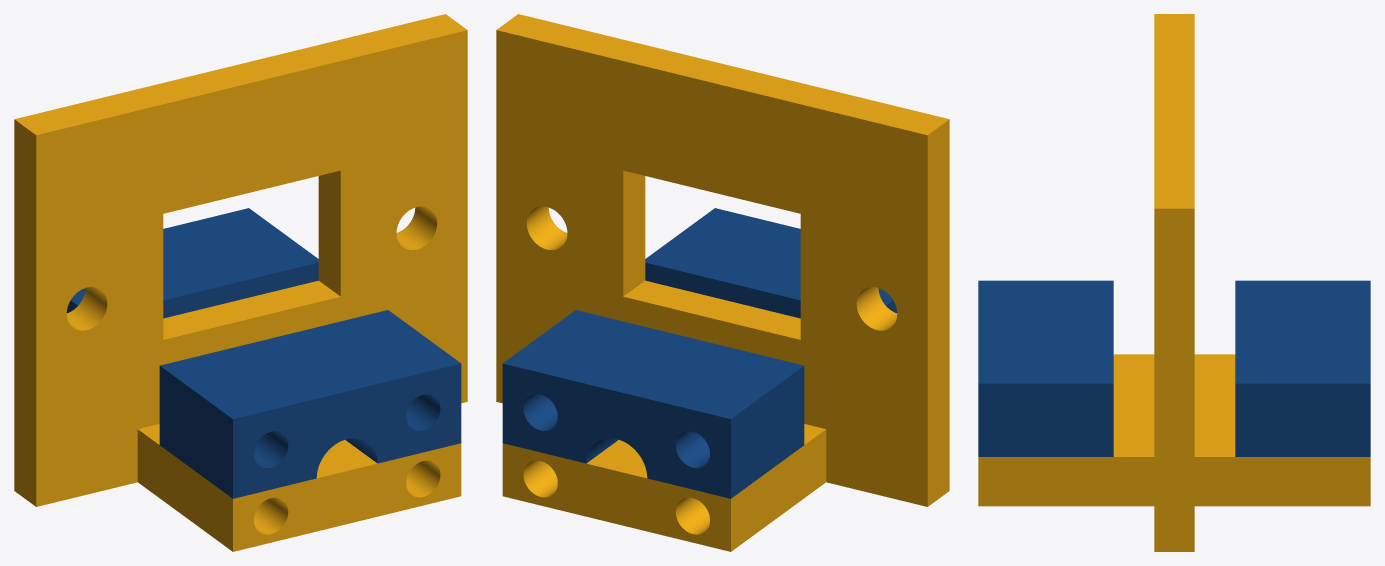
File: ATB-STANDARD-ASSEMBLY-P0.1.glb
3 views of the same model, side by side, from view 1: azimuth 30°, elevation 25°; view 2: azimuth 150°, elevation 25°; view 3: azimuth 270°, elevation 25° (orthographic). The views are drawn at different scales.
Parts seen in each view (by area): view 1: ATB-BASE, ATB-CAP-DYNAMIC, ATB-CAP-PIGTAIL; view 2: ATB-BASE, ATB-CAP-PIGTAIL, ATB-CAP-DYNAMIC; view 3: ATB-BASE, ATB-CAP-DYNAMIC, ATB-CAP-PIGTAIL.
Boxes of the visible parts, x1=… form: ATB-BASE: x1=14, y1=14, x2=467, y2=551; ATB-CAP-DYNAMIC: x1=159, y1=310, x2=461, y2=498; ATB-CAP-PIGTAIL: x1=66, y1=208, x2=318, y2=318; ATB-BASE: x1=496, y1=14, x2=949, y2=551; ATB-CAP-PIGTAIL: x1=502, y1=310, x2=804, y2=498; ATB-CAP-DYNAMIC: x1=645, y1=208, x2=897, y2=318; ATB-BASE: x1=978, y1=14, x2=1370, y2=551; ATB-CAP-DYNAMIC: x1=978, y1=280, x2=1113, y2=456; ATB-CAP-PIGTAIL: x1=1235, y1=280, x2=1370, y2=456.
Size of the model in its own units: 34 by 28 by 29.
